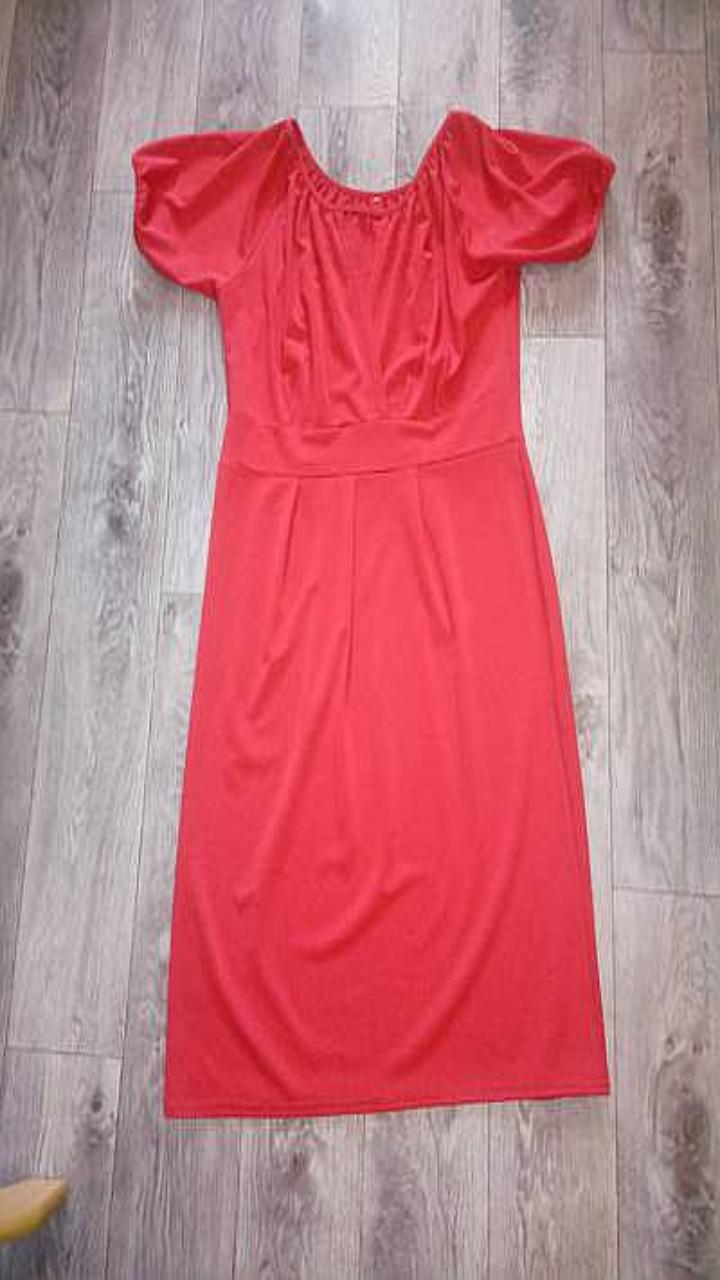Dresses: (132, 109, 614, 1115)
